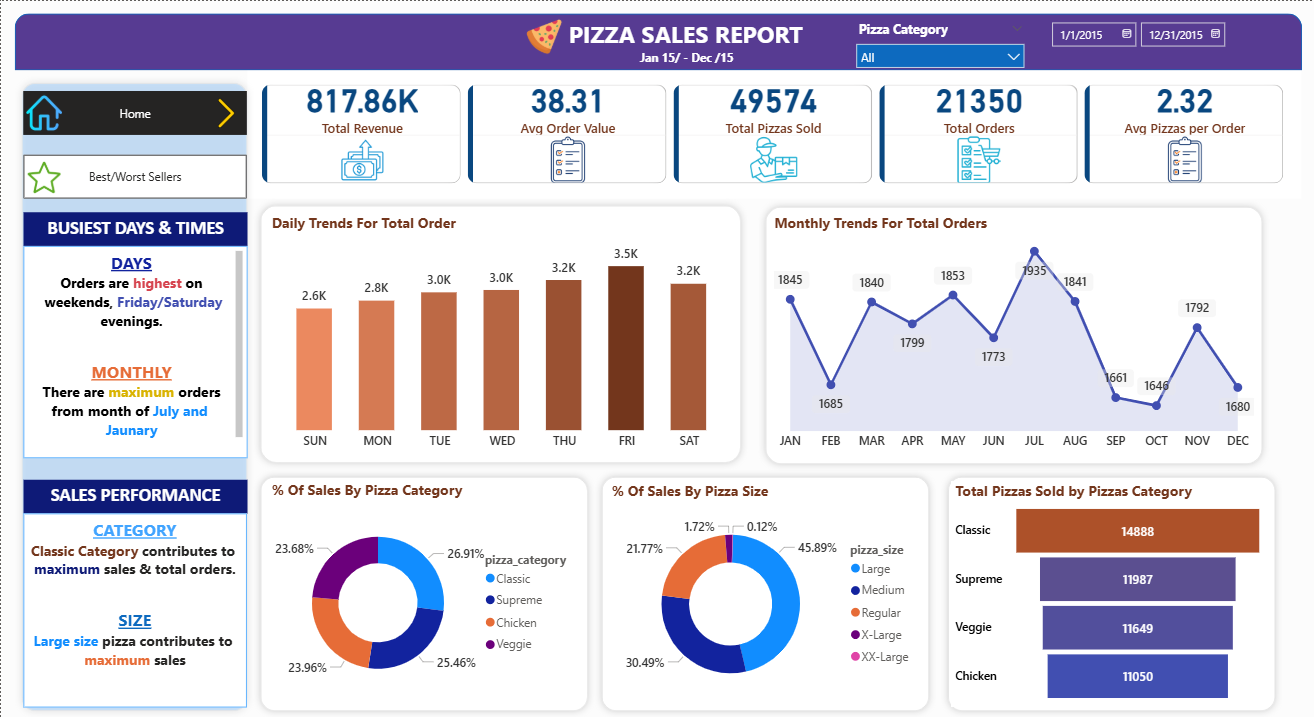

This screenshot's page, from the dashboard's own definition file:
{"tool":"powerbi","page":{"name":"Home","canvas":[1500,820],"ordinal":0},"visuals":[{"type":"cardVisual","fields":{"Data":["pizza_sales.Total Revenue","pizza_sales.Avg Order Value","pizza_sales.Total Pizzas Sold","pizza_sales.Total Orders","pizza_sales.Avg Pizzas per Order"]},"box":[281.2,78.8,1205,147.5],"z":0},{"type":"shape","box":[15,86.2,273.8,733.8],"z":1000},{"type":"shape","box":[15,13.8,1471.2,65],"z":2000},{"type":"textbox","box":[631.2,13.8,302.5,47.5],"z":3000},{"type":"textbox","box":[715,50,138.8,28.8],"z":4000},{"type":"image","box":[600,17.5,41.2,47.5],"z":5000},{"type":"shape","box":[288.8,226.2,565,310],"z":6000},{"type":"columnChart","title":"Daily Trends For Total Order","fields":{"Category":["pizza_sales.Order Day"],"Y":["pizza_sales.Total Orders"]},"box":[303.8,241.2,537.5,281.2],"z":7000},{"type":"shape","box":[865,227.5,583.8,310],"z":8000},{"type":"areaChart","title":"Monthly Trends For Total Orders","fields":{"Category":["pizza_sales.Order Month"],"Y":["pizza_sales.Total Orders"]},"box":[878.8,241.2,558.8,281.2],"z":9000},{"type":"shape","box":[288.8,536.2,390,283.8],"z":10000},{"type":"shape","box":[678.8,536.2,390,283.8],"z":11000},{"type":"shape","box":[1073.8,536.2,390,283.8],"z":12000},{"type":"donutChart","title":"% Of Sales By Pizza Category","fields":{"Category":["pizza_sales.pizza_category"],"Y":["pizza_sales.Total Revenue"]},"box":[303.8,547.5,362.5,260],"z":13000},{"type":"donutChart","title":"% Of Sales By Pizza Size","fields":{"Y":["pizza_sales.Total Revenue"],"Category":["pizza_sales.pizza_size"]},"box":[692.5,548.8,362.5,260],"z":14000},{"type":"funnel","title":"Total Pizzas Sold by Pizzas Category","fields":{"Category":["pizza_sales.pizza_category"],"Y":["pizza_sales.Total Pizzas Sold"]},"box":[1086.2,548.8,362.5,258.8],"z":15000},{"type":"textbox","box":[25,241.2,256.2,38.8],"z":16000},{"type":"textbox","box":[25,280,256.2,242.5],"z":17000},{"type":"textbox","box":[26.2,547.5,256.2,38.8],"z":18000},{"type":"textbox","box":[26.2,586.2,255,221.2],"z":19000},{"type":"slicer","fields":{"Values":["pizza_sales.pizza_category"]},"box":[967.5,17.5,212.5,61.2],"z":20000},{"type":"slicer","fields":{"Values":["pizza_sales.order_date"]},"box":[1188.8,13.8,218.8,65],"z":21000},{"type":"pageNavigator","box":[26.2,102.5,255,50],"z":22000},{"type":"pageNavigator","box":[25,176.2,255,50],"z":23000},{"type":"image","box":[233.8,111.2,46.2,33.8],"z":24000},{"type":"image","box":[26.2,107.5,47.5,41.2],"z":25000},{"type":"image","box":[25,182.5,47.5,37.5],"z":26000}]}

Visuals, with their boxes in screenshot pixels (x1, y1, x2, y2), scaled from the page's 1500x820 canvas onto the 1314x717 screenshot:
cardVisual - pizza_sales.Total Revenue x pizza_sales.Avg Order Value: (246, 69, 1302, 198)
shape: (13, 75, 253, 716)
shape: (13, 12, 1302, 69)
textbox: (553, 12, 818, 54)
textbox: (626, 44, 748, 69)
image: (526, 15, 562, 57)
shape: (253, 198, 748, 469)
"Daily Trends For Total Order" columnChart: (266, 211, 737, 457)
shape: (758, 199, 1269, 470)
"Monthly Trends For Total Orders" areaChart: (770, 211, 1259, 457)
shape: (253, 469, 595, 716)
shape: (595, 469, 936, 716)
shape: (941, 469, 1282, 716)
"% Of Sales By Pizza Category" donutChart: (266, 479, 584, 706)
"% Of Sales By Pizza Size" donutChart: (607, 480, 924, 707)
"Total Pizzas Sold by Pizzas Category" funnel: (952, 480, 1269, 706)
textbox: (22, 211, 246, 245)
textbox: (22, 245, 246, 457)
textbox: (23, 479, 247, 513)
textbox: (23, 513, 246, 706)
slicer - pizza_sales.pizza_category: (848, 15, 1034, 69)
slicer - pizza_sales.order_date: (1041, 12, 1233, 69)
pageNavigator: (23, 90, 246, 133)
pageNavigator: (22, 154, 245, 198)
image: (205, 97, 245, 127)
image: (23, 94, 65, 130)
image: (22, 160, 64, 192)
